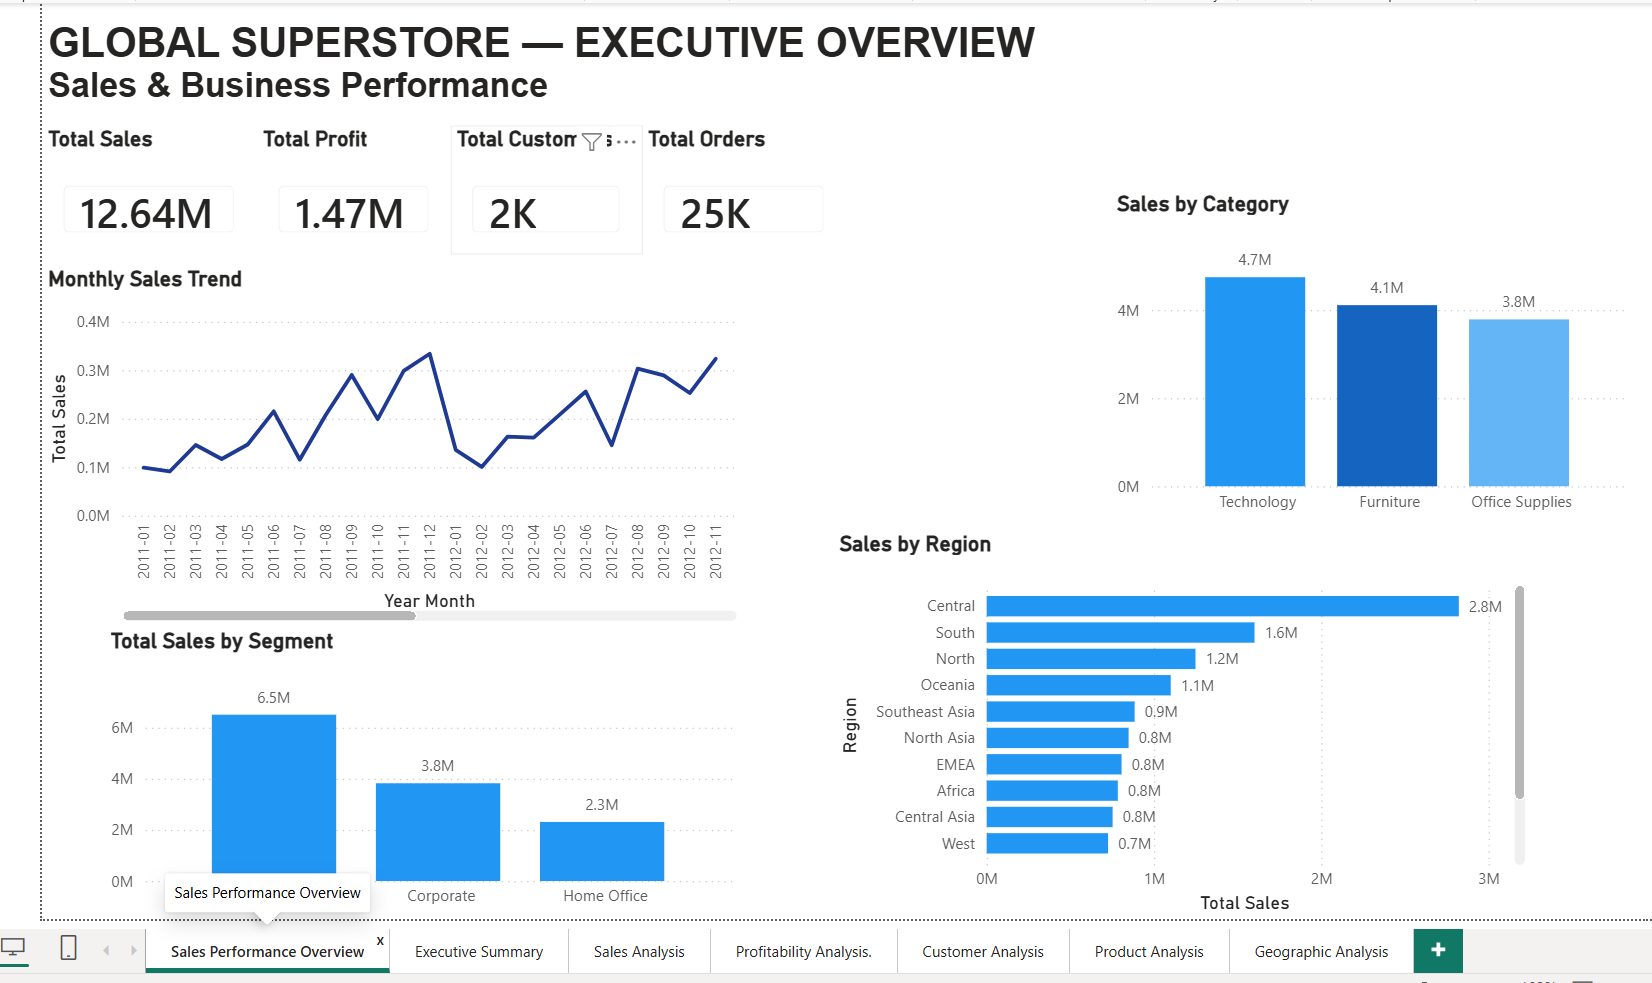

The page's visual inventory and layout, read from the dashboard file:
{"tool":"powerbi","page":{"name":"Sales Performance Overview","canvas":[1280,720],"ordinal":0},"visuals":[{"type":"cardVisual","title":"Total Sales","fields":{"Data":["Global-Superstore.Total Sales"]},"box":[0,96.2,168.8,101.2],"z":0},{"type":"cardVisual","title":"Total Profit","fields":{"Data":["Global-Superstore.Total Profit"]},"box":[168.8,96.2,152.5,101.2],"z":1000},{"type":"cardVisual","title":"Total Orders","fields":{"Data":["Global-Superstore.Total Orders"]},"box":[471.2,96.2,160,101.2],"z":2000},{"type":"cardVisual","title":"Total Customers","fields":{"Data":["Global-Superstore.Total Customers"]},"box":[321.2,96.2,150,101.2],"z":3000},{"type":"textbox","box":[0,8.8,1280,87.5],"z":4000},{"type":"lineChart","title":"Monthly Sales Trend","fields":{"Category":["Calendar.Year Month"],"Y":["Global-Superstore.Total Sales"]},"box":[0,206.7,551.1,284.4],"z":5000},{"type":"clusteredColumnChart","title":"Sales by Category","fields":{"Category":["Global-Superstore.Category"],"Y":["Global-Superstore.Total Sales"]},"box":[840,147.5,411.2,262.5],"z":6000},{"type":"clusteredBarChart","title":"Sales by Region","fields":{"Category":["Global-Superstore.Region"],"Y":["Global-Superstore.Total Sales"]},"box":[622.2,414.4,548.9,305.6],"z":7000},{"type":"clusteredColumnChart","fields":{"Category":["Global-Superstore.Segment"],"Y":["Global-Superstore.Total Sales"]},"box":[48.9,491.1,502.2,228.9],"z":8000}]}

Visuals, with their boxes on the page's 1280x720 design canvas (x1, y1, x2, y2). These are canvas units, not pixel positions in the 1652x983 screenshot, which may show the page scaled, cropped or inside an application window:
"Total Sales" cardVisual: 0 96 169 197
"Total Profit" cardVisual: 169 96 321 197
"Total Orders" cardVisual: 471 96 631 197
"Total Customers" cardVisual: 321 96 471 197
textbox: 0 9 1280 96
"Monthly Sales Trend" lineChart: 0 207 551 491
"Sales by Category" clusteredColumnChart: 840 148 1251 410
"Sales by Region" clusteredBarChart: 622 414 1171 720
clusteredColumnChart - Global-Superstore.Segment x Global-Superstore.Total Sales: 49 491 551 720
